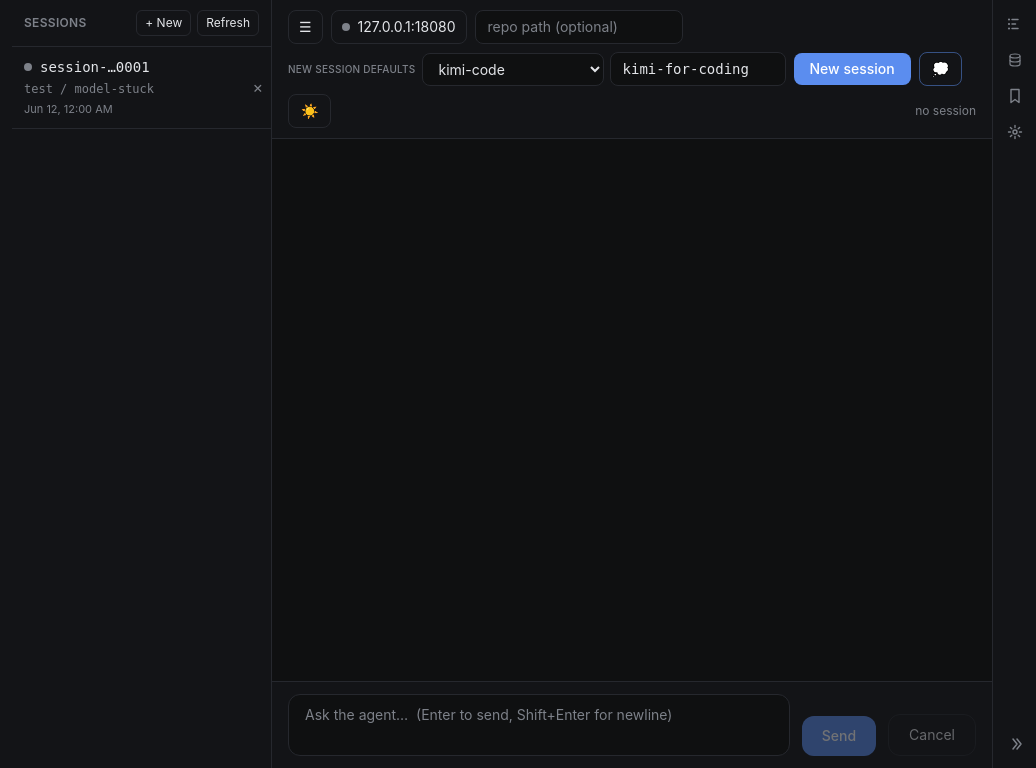
Test: App session switching › surfaces a readable error and keeps the session when delete returns 409
Expected: the button "session-…0001 test / model-stuck Jun 12, 12:00 AM" is shown, left=12, top=47, right=244, bottom=128
Step 1. Click the button named "close session" → (258, 87), box left=244, top=47, right=271, bottom=128
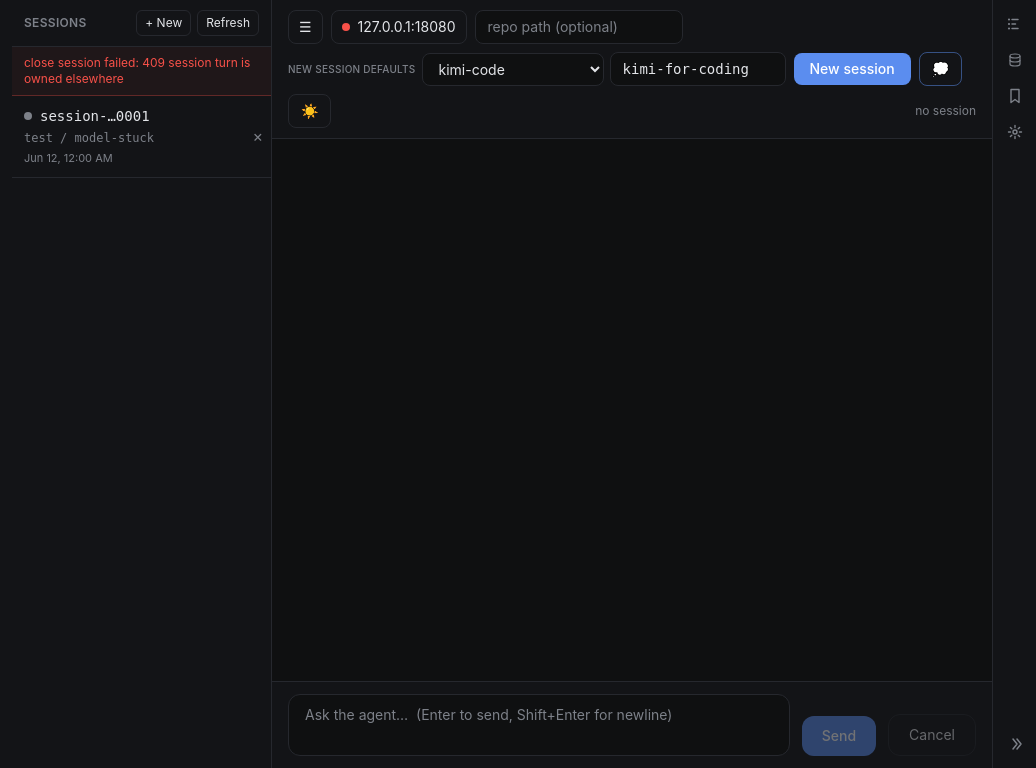
Expected: the button "session-…0001 test / model-stuck Jun 12, 12:00 AM" is shown, left=12, top=96, right=244, bottom=176
Now the text "close session failed: 409 session turn is owned elsewhere" is shown, box left=12, top=47, right=271, bottom=96
